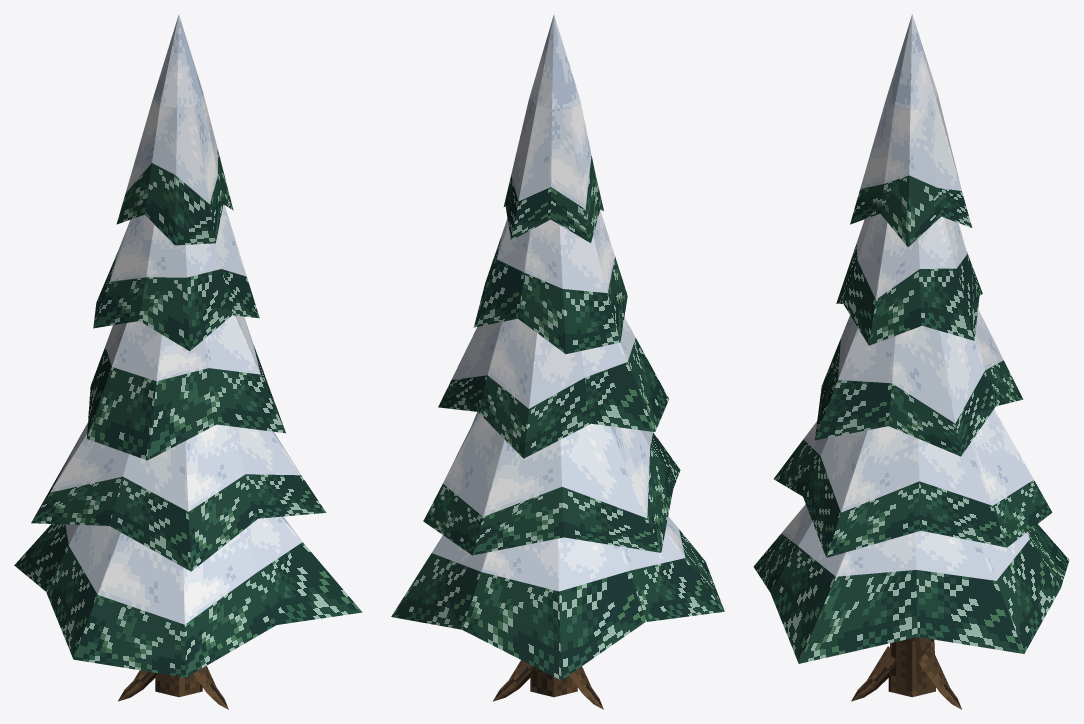
The model's file is tree_snowpine.glb.
The picture shows the model from 3 angles, left to right: view 1: azimuth 30°, elevation 25°; view 2: azimuth 150°, elevation 25°; view 3: azimuth 270°, elevation 25°; orthographic projection.
Visible parts, largest first — view 1: tree_snowpine; view 2: tree_snowpine; view 3: tree_snowpine.
Part boxes in pixels (<box>): tree_snowpine: <box>14,14,362,709</box>; tree_snowpine: <box>391,15,724,709</box>; tree_snowpine: <box>753,14,1069,709</box>.
Size of the model in its own units: 1.56 by 3.8 by 1.61.
Materials: 2 (2 with a texture image).
